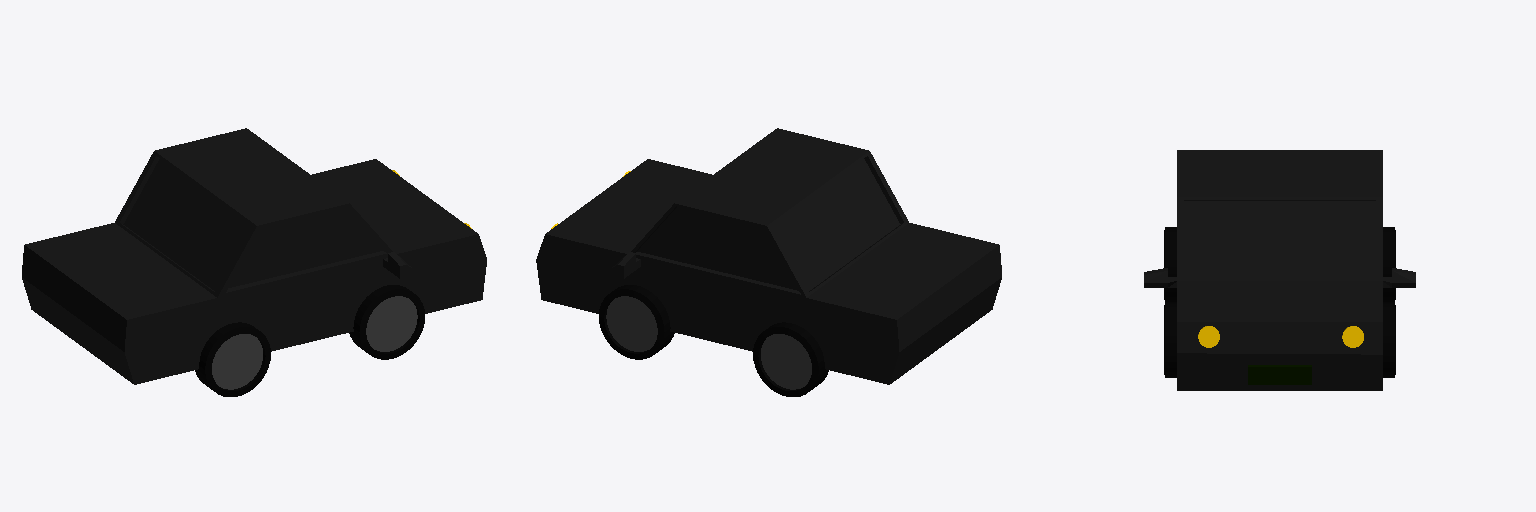
Rendered from car.obj.
The picture shows the model from 3 angles: view 1: azimuth 30°, elevation 25°; view 2: azimuth 150°, elevation 25°; view 3: azimuth 270°, elevation 25°; orthographic projection.
Visible parts, largest first — view 1: body, pCylinder2 wheel, wheel pCylinder3; view 2: body, pCylinder2 wheel, wheel pCylinder3; view 3: body, wheel pCylinder3, pCylinder2 wheel, pCube1, pCube2.
Boxes of the visible parts, box(x1,y1,x2,y2) form: body: box(22, 128, 486, 384); pCylinder2 wheel: box(195, 322, 270, 396); wheel pCylinder3: box(349, 285, 424, 359); body: box(536, 128, 1001, 384); pCylinder2 wheel: box(753, 322, 828, 396); wheel pCylinder3: box(599, 285, 674, 359); body: box(1177, 150, 1382, 390); wheel pCylinder3: box(1164, 302, 1395, 377); pCylinder2 wheel: box(1164, 227, 1395, 301); pCube1: box(1248, 365, 1311, 384); pCube2: box(1144, 268, 1415, 287).
Bounding box in the file's own units: 2.05 × 0.8578 × 1.32.